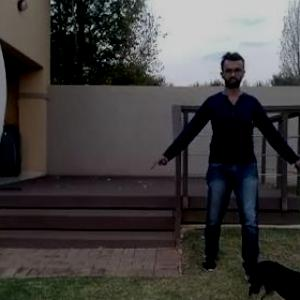land: (166, 57, 292, 273)
